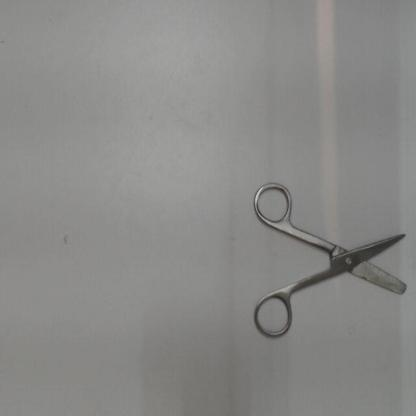Dressing Scissors: (245, 176, 414, 347)
